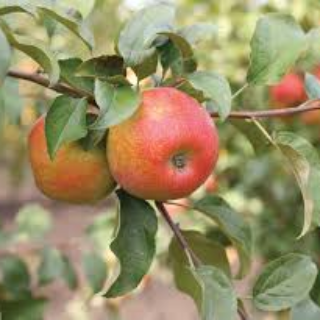tao: (101, 82, 224, 206)
